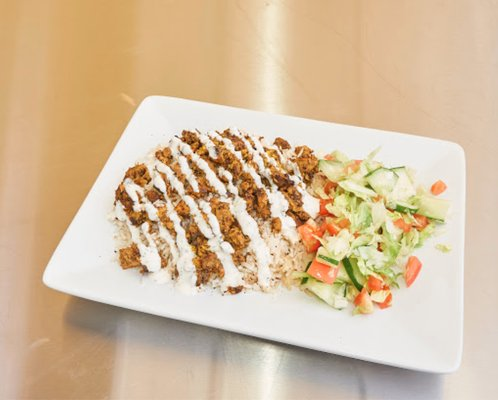curry: (0, 1, 481, 394)
sushi: (111, 126, 445, 315)
